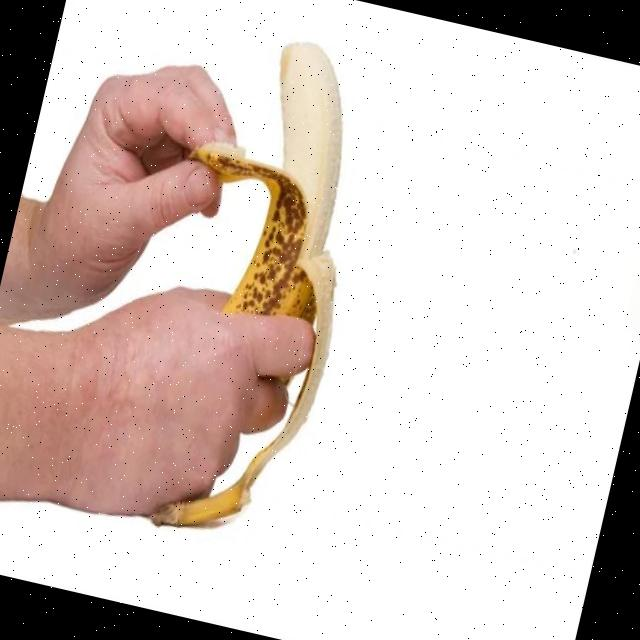banana-peel: (104, 18, 398, 556)
